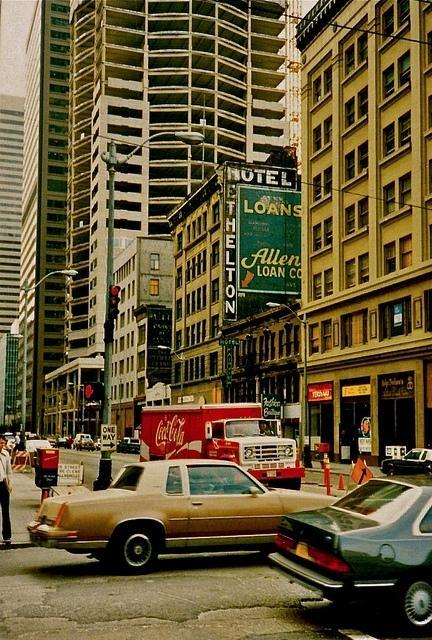car: (29, 460, 341, 572), (266, 470, 430, 630), (378, 447, 432, 476), (72, 434, 96, 451), (116, 439, 141, 454), (26, 439, 52, 451), (54, 438, 68, 449)
truck: (136, 401, 304, 490)
